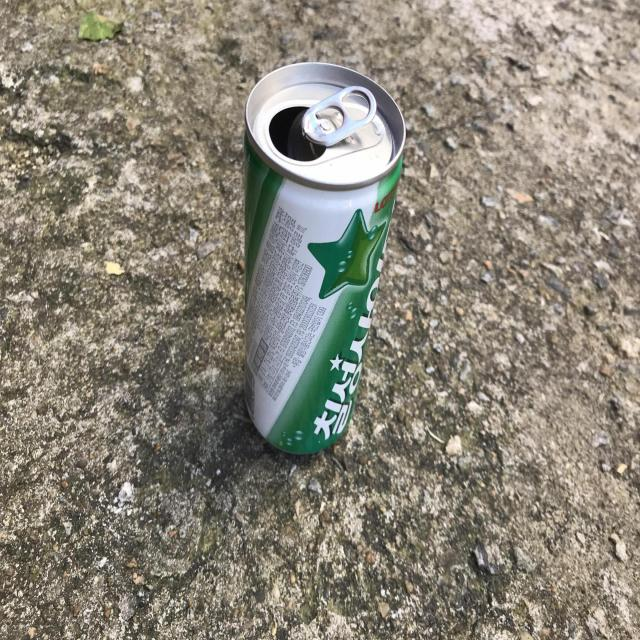can: (245, 61, 406, 454)
